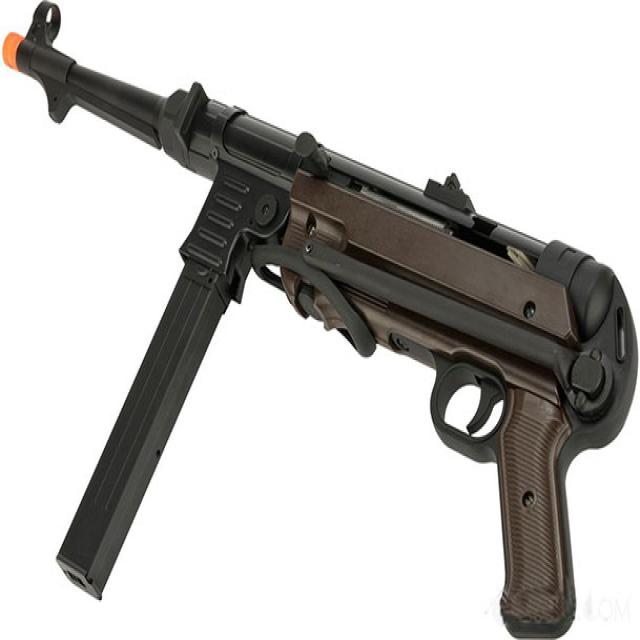SMG: (1, 2, 640, 640)
